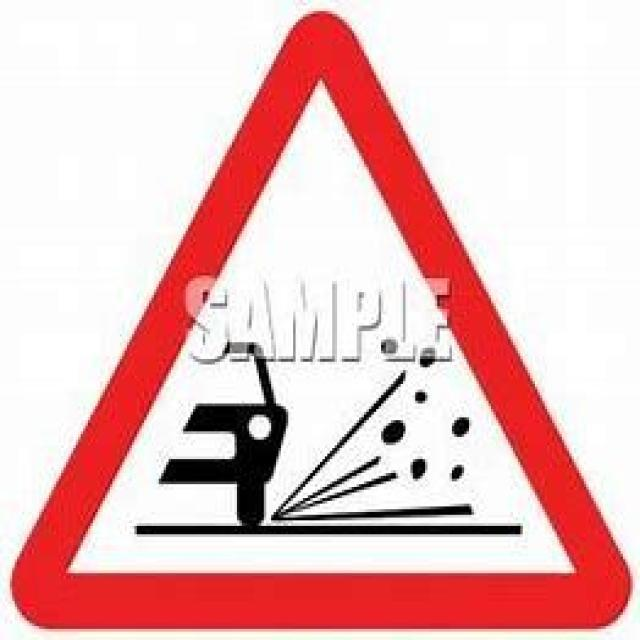loose gravel: (21, 30, 608, 608)
